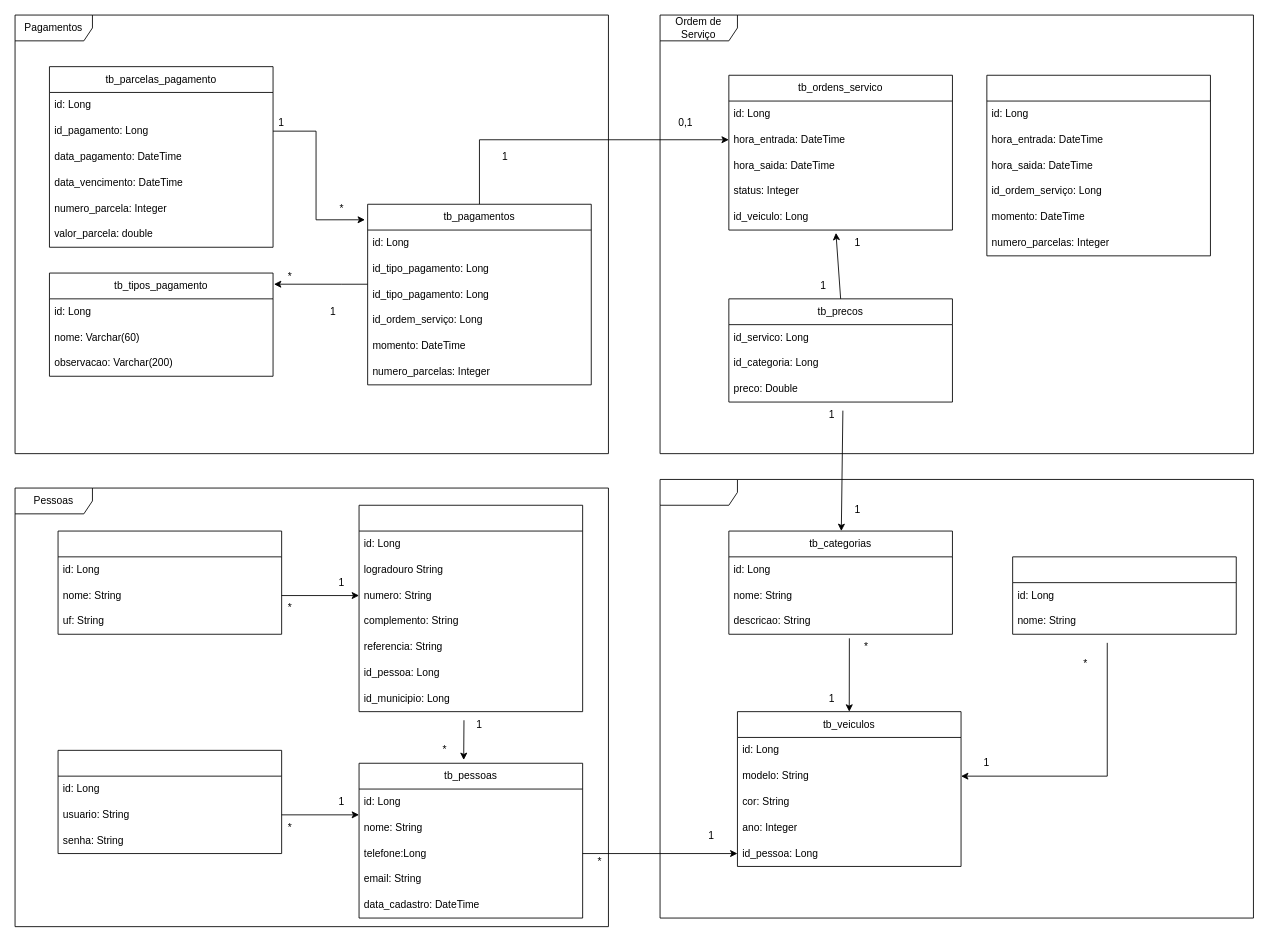
The diagram is 1269 pixels wide and 942 high, and some of its shapes have lost their labels. Here are the shapes that lost their labels. From the top down, the box of each, then its label:
(986, 74, 1210, 256): tb_servicos
(57, 530, 282, 634): tb_municipios
(1012, 556, 1236, 634): tb_marcas
(358, 504, 583, 712): tb_endereco
(659, 479, 1253, 918): Veículos
(57, 749, 282, 854): tb_usuarios
